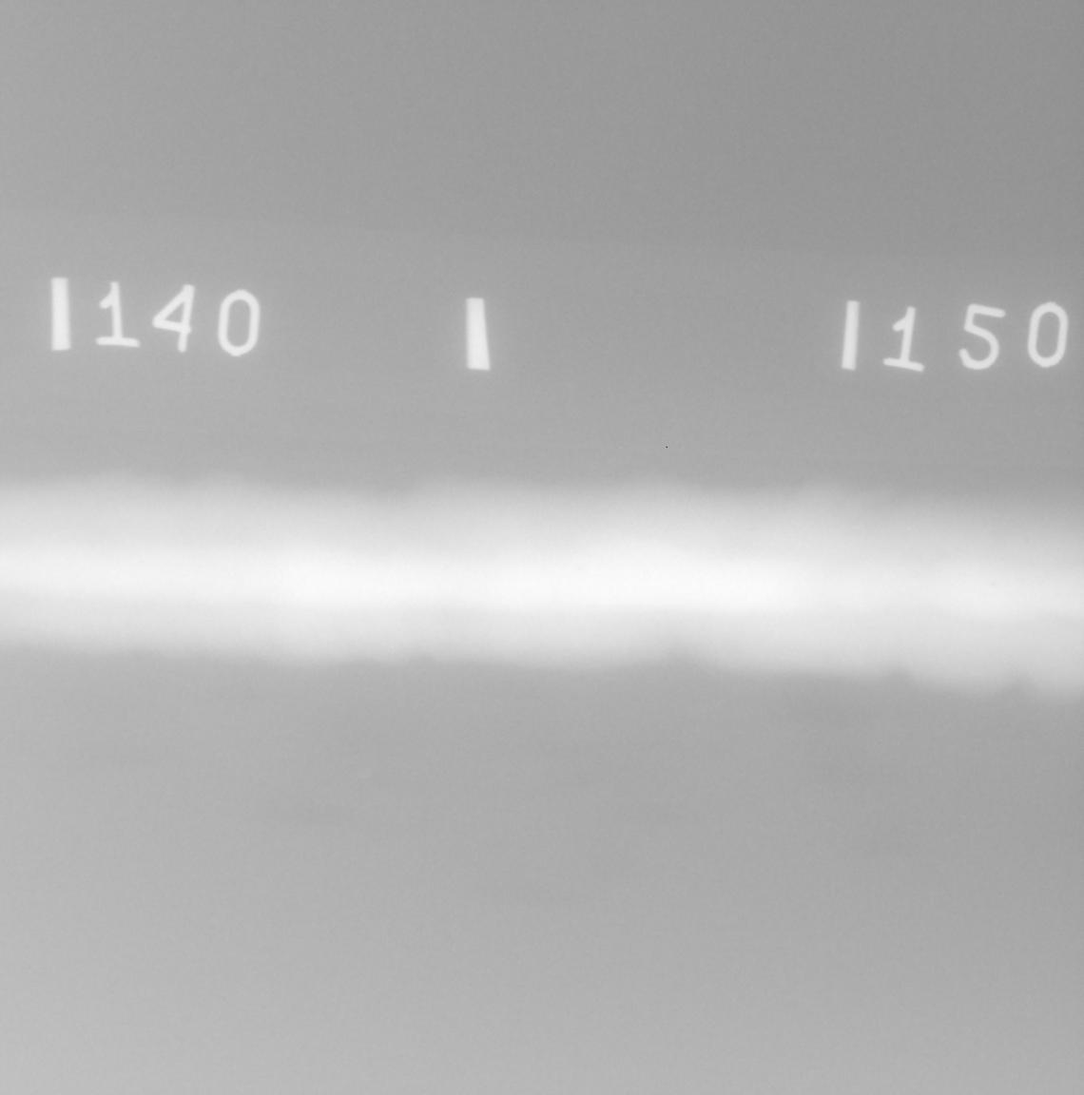Pore/Porosity: (990, 583, 997, 587), (1024, 538, 1030, 542)
